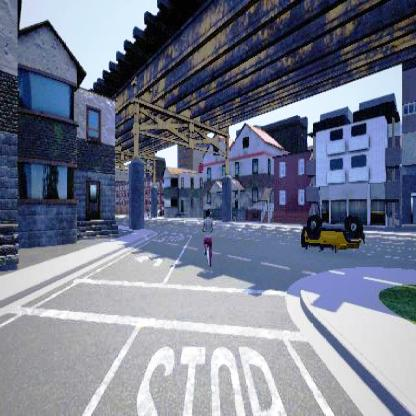bike: (196, 208, 216, 271)
vehicle: (300, 213, 365, 252)
